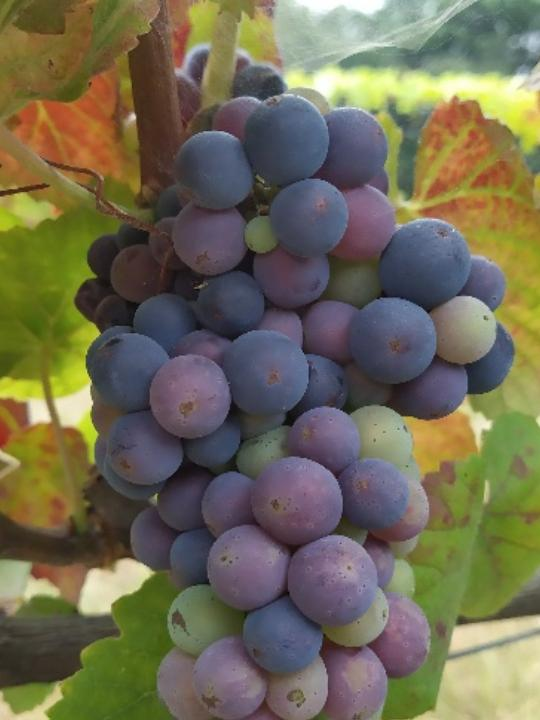grape: (69, 81, 520, 720)
